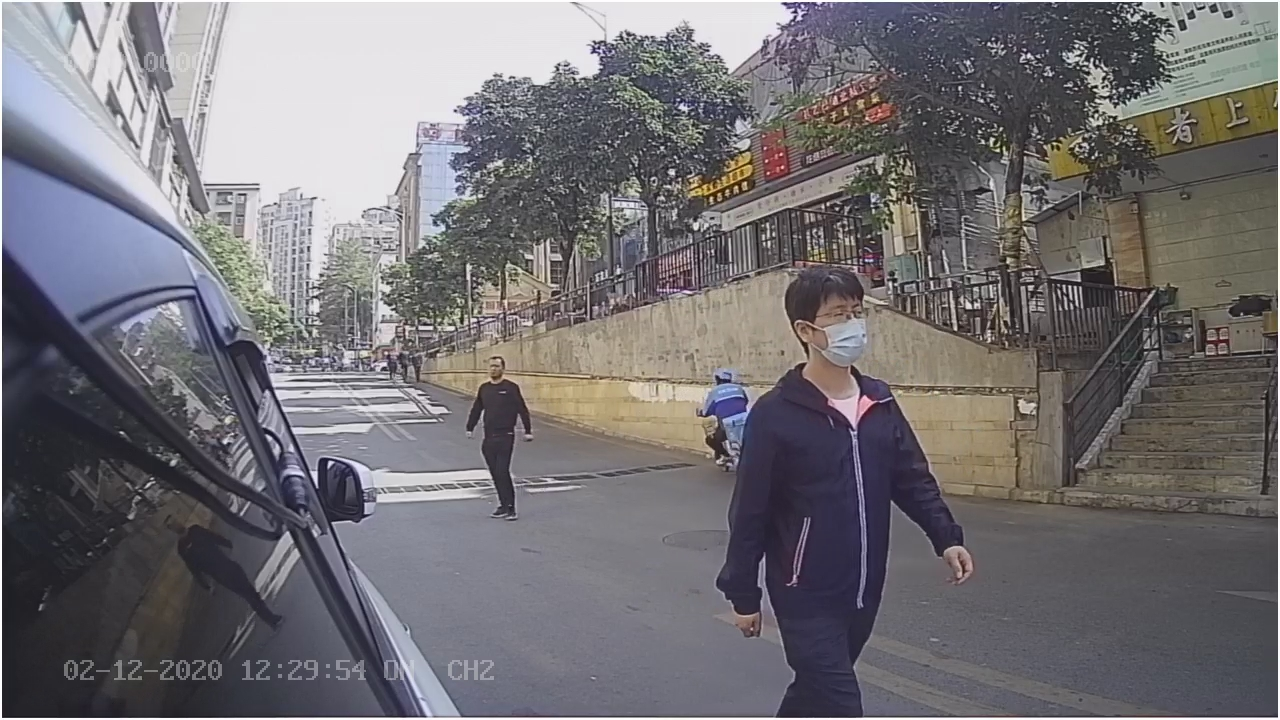person: (706, 261, 979, 639), (452, 349, 545, 529)
